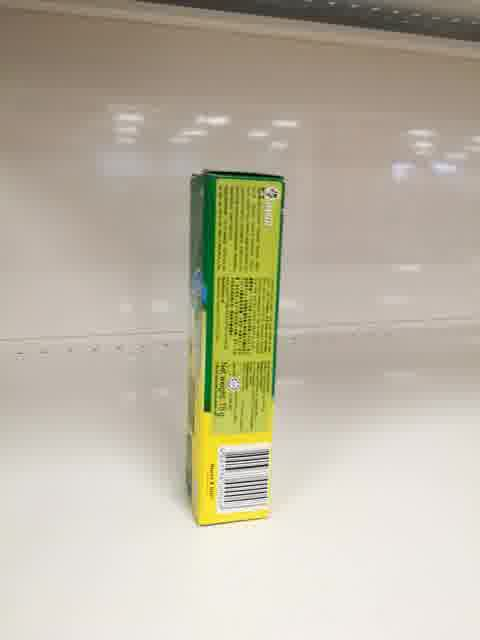toothpaste: (184, 169, 286, 528)
